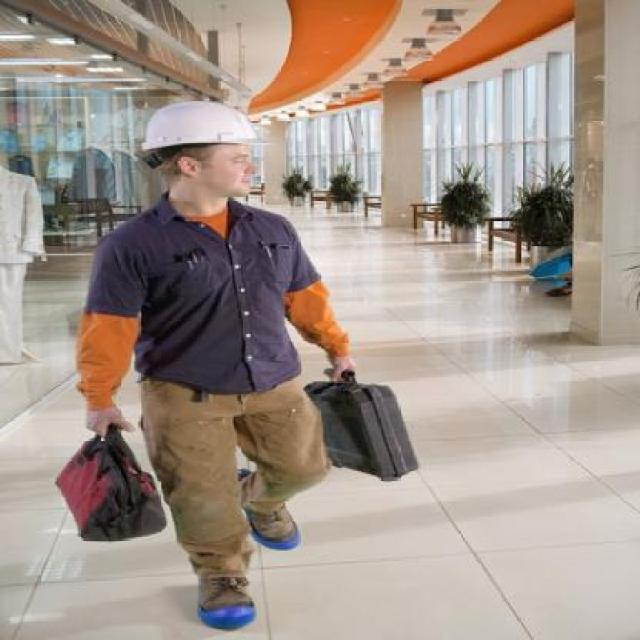helmet: (128, 91, 274, 158)
shoes: (224, 468, 318, 564), (180, 560, 272, 640)
